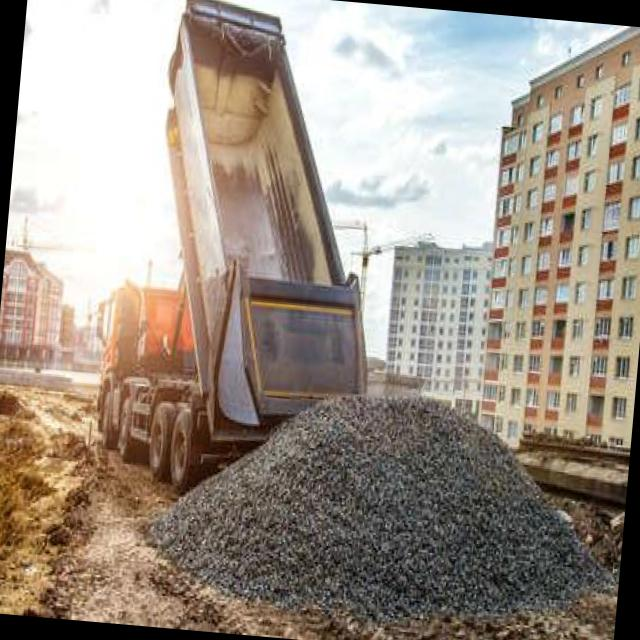Excavadora: (88, 0, 401, 507)
